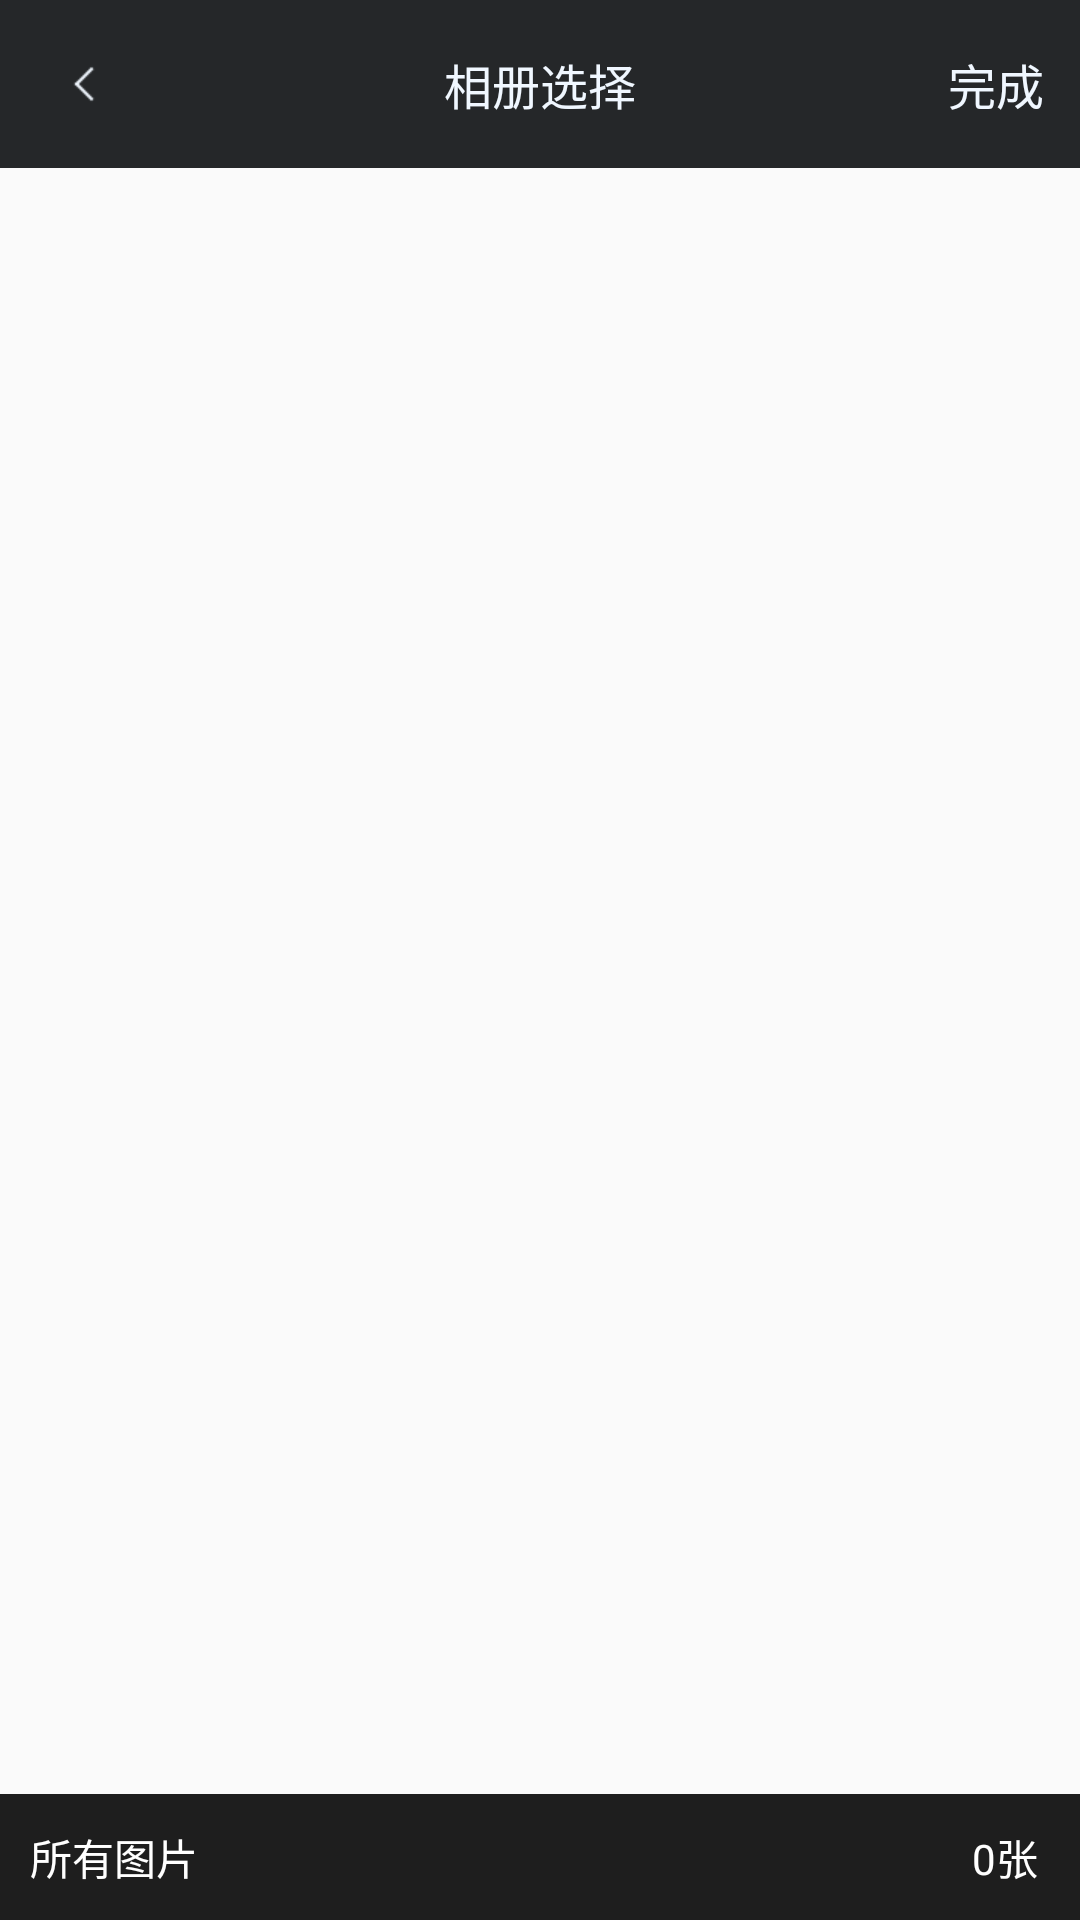

Locate icon controls on the screen. Image size 1080×1920, boxes as (x1, y1, x2, y2).
bar back: (74, 67, 94, 101)
